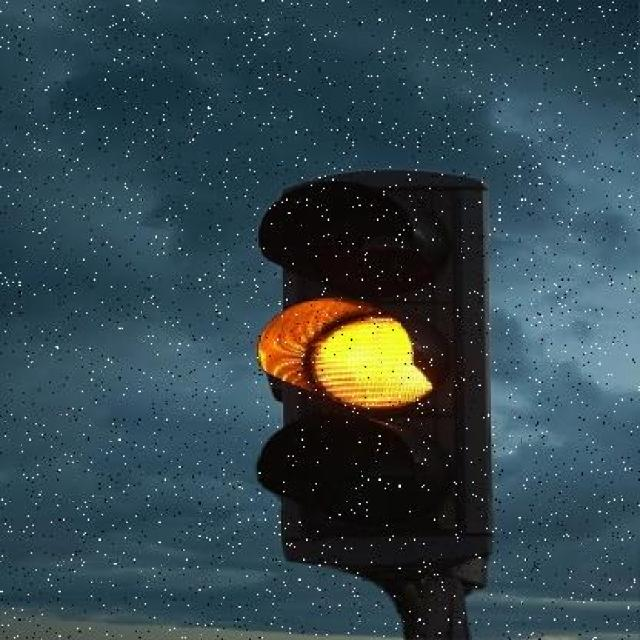yellow-light: (217, 175, 546, 590)
